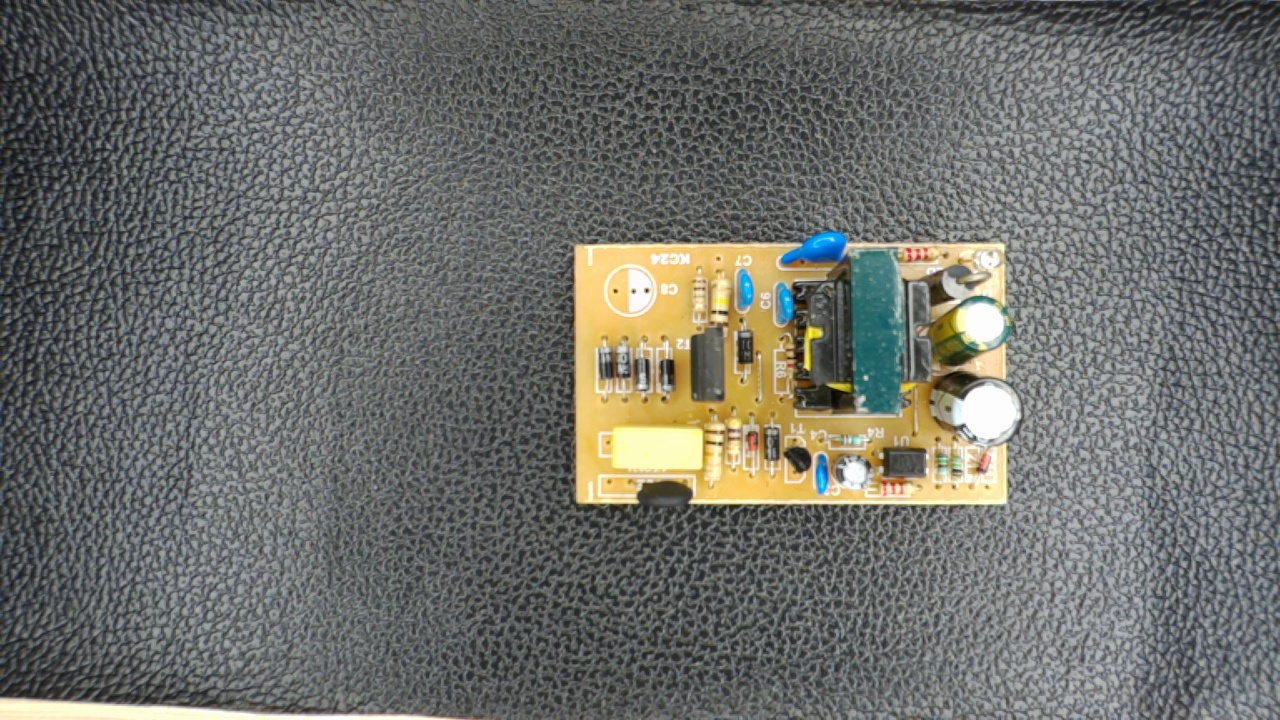fuse: (614, 470, 704, 510)
mov: (774, 231, 852, 272)
optocoupler: (869, 441, 935, 485)
